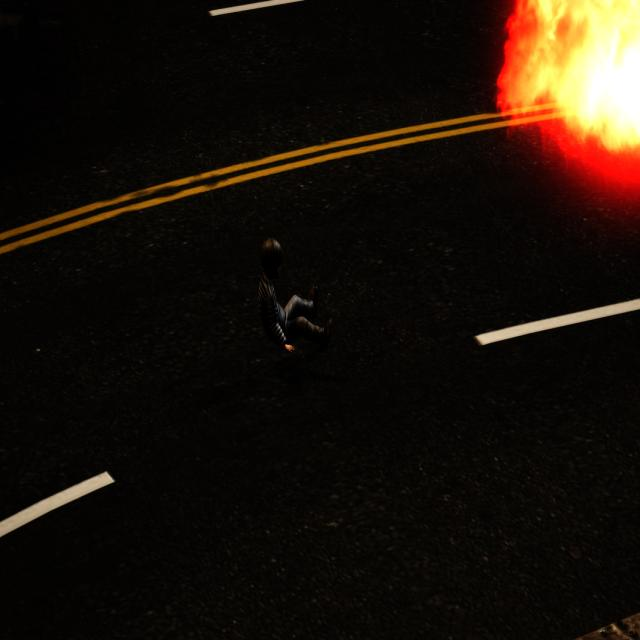Human: (253, 234, 340, 359)
